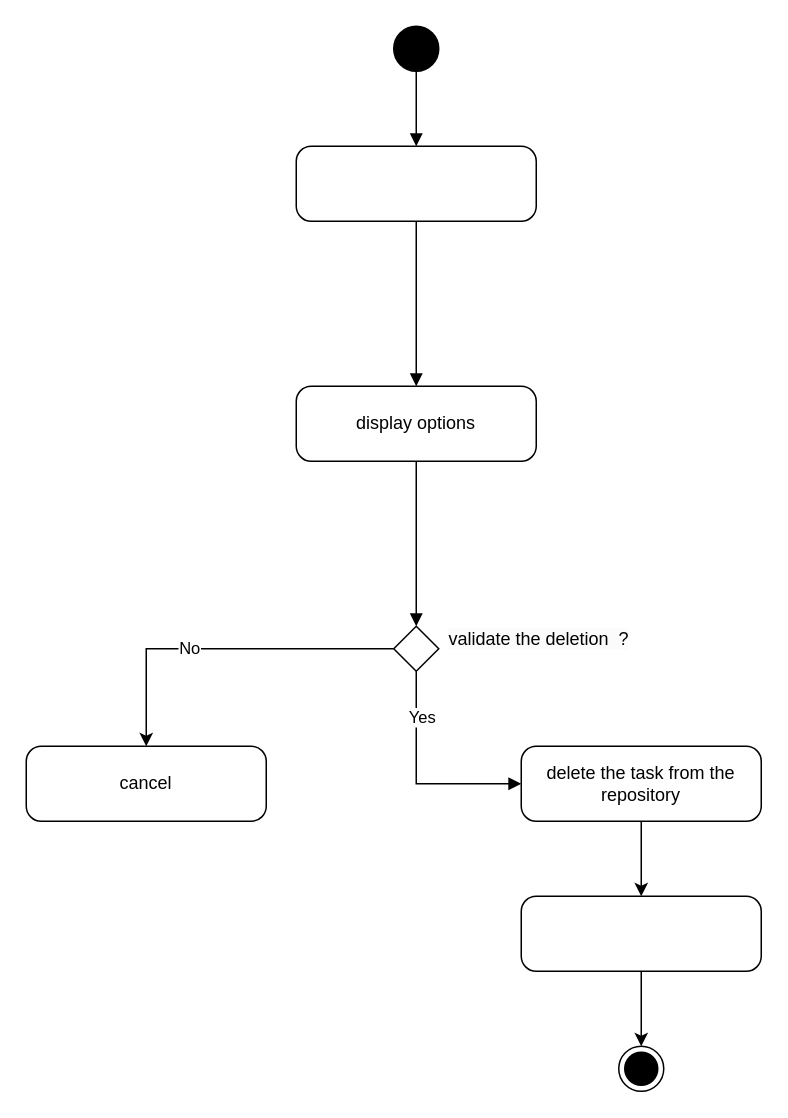
The diagram is 788 pixels wide and 1118 high, and some of its shapes have lost their labels. Each missing label, with the centre of its shape:
delete a task: (x=415, y=183)
notify the user: (x=640, y=933)
